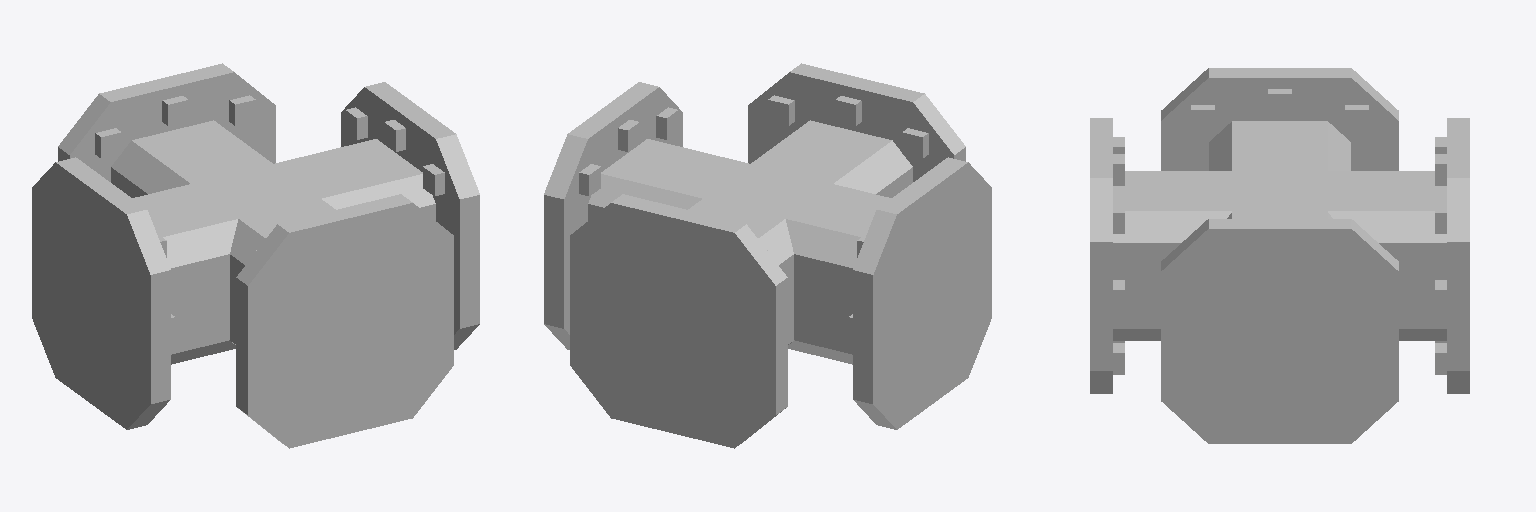
File: pipe_item.obj
3 renders of one model, left to right at view 1: azimuth 30°, elevation 25°; view 2: azimuth 150°, elevation 25°; view 3: azimuth 270°, elevation 25°, orthographic.
Visible parts, largest first — view 1: cylinder3, cylinder4, pipe4, cylinder, cylinder2, pipe, pipe2, beveled_cuboid, pipe3, screw4, screw3, screw7 (+3 smaller); view 2: cylinder, cylinder4, pipe4, cylinder3, cylinder2, pipe3, pipe2, beveled_cuboid, pipe, screw5b, screw6b, screw9b (+3 smaller); view 3: cylinder2, cylinder4, pipe, pipe3, pipe4, cylinder, cylinder3, beveled_cuboid, pipe2, screw6c, screw7c, screw10c.
Boxes of the visible parts, x1,y1,x2,y2 form: cylinder3: [236, 194, 453, 448]; cylinder4: [32, 157, 170, 429]; pipe4: [132, 184, 237, 364]; cylinder: [58, 63, 275, 181]; cylinder2: [341, 82, 479, 349]; pipe: [111, 120, 272, 197]; pipe2: [274, 139, 435, 220]; beveled_cuboid: [192, 164, 320, 218]; pipe3: [230, 199, 335, 344]; screw4: [229, 95, 255, 125]; screw3: [95, 128, 121, 158]; screw7: [162, 96, 188, 125]; cylinder: [570, 194, 787, 448]; cylinder4: [853, 157, 991, 429]; pipe4: [786, 184, 891, 364]; cylinder3: [748, 63, 965, 181]; cylinder2: [544, 82, 682, 349]; pipe3: [751, 120, 912, 197]; pipe2: [588, 139, 749, 220]; beveled_cuboid: [703, 164, 831, 218]; pipe: [688, 199, 793, 344]; screw5b: [768, 95, 794, 125]; screw6b: [902, 128, 928, 158]; screw9b: [835, 96, 861, 125]; cylinder2: [1161, 219, 1398, 443]; cylinder4: [1161, 68, 1398, 170]; pipe: [1328, 171, 1446, 340]; pipe3: [1113, 171, 1231, 340]; pipe4: [1209, 121, 1350, 170]; cylinder: [1447, 118, 1469, 393]; cylinder3: [1090, 118, 1112, 393]; beveled_cuboid: [1232, 171, 1327, 210]; pipe2: [1227, 211, 1332, 218]; screw6c: [1191, 105, 1214, 130]; screw7c: [1345, 105, 1368, 130]; screw10c: [1268, 89, 1291, 114].
Bounding box in the file's own units: 1 × 0.625 × 1.